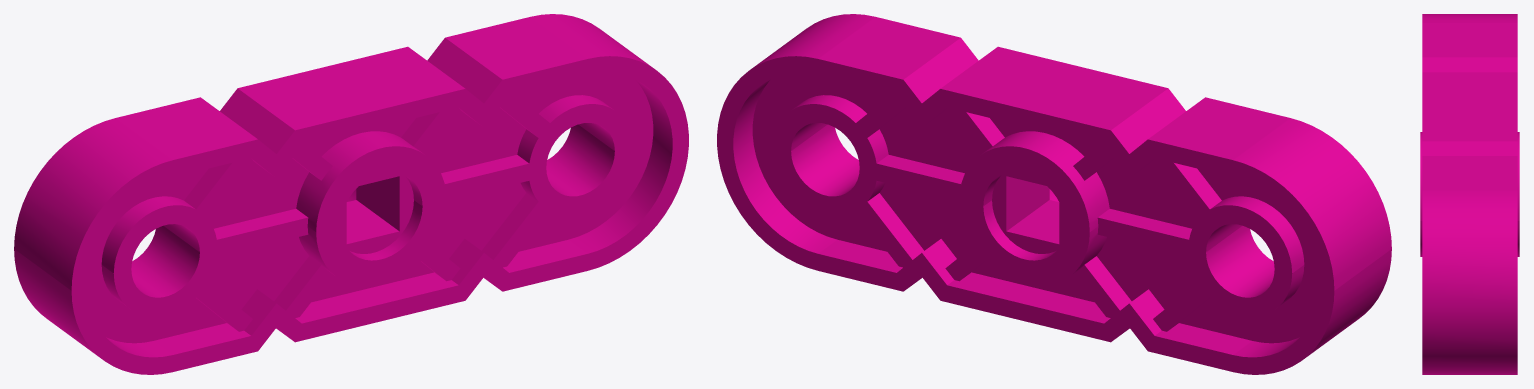
File: 1x3 Center Lock Beam (228-2500-141).glb
The picture shows the model from 3 angles, left to right: view 1: azimuth 30°, elevation 25°; view 2: azimuth 150°, elevation 25°; view 3: azimuth 270°, elevation 25°; orthographic projection. The views are drawn at different scales.
Parts seen in each view (by area): view 1: 1x3 Center Lock Beam (228-2500-141); view 2: 1x3 Center Lock Beam (228-2500-141); view 3: 1x3 Center Lock Beam (228-2500-141).
Boxes of the visible parts, bbox=[...] form: 1x3 Center Lock Beam (228-2500-141): bbox=[14, 14, 688, 374]; 1x3 Center Lock Beam (228-2500-141): bbox=[717, 14, 1391, 374]; 1x3 Center Lock Beam (228-2500-141): bbox=[1420, 14, 1519, 374].
Bounding box in the file's own units: 1.49 × 0.4882 × 0.25.
